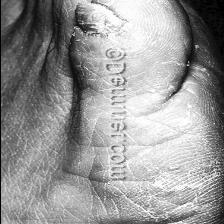Toxin: (62, 3, 148, 44)
